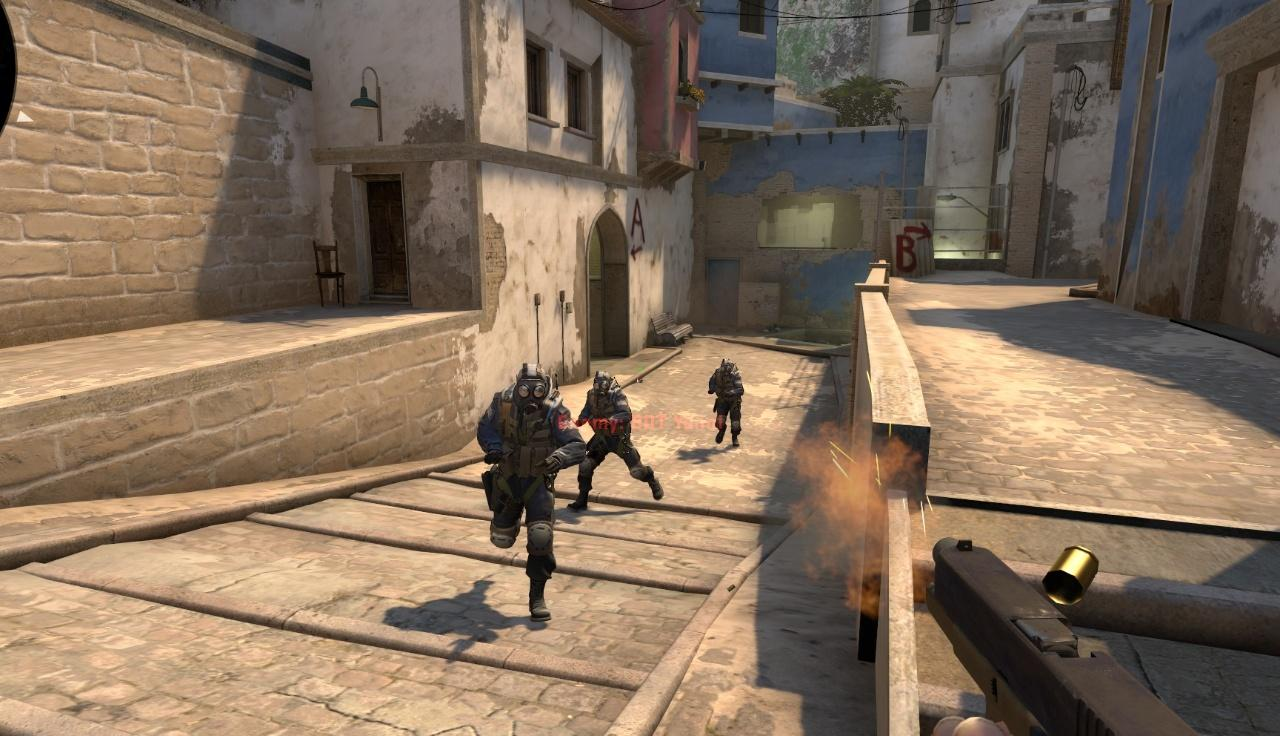ct: (481, 364, 583, 618), (579, 371, 643, 507), (714, 359, 742, 447)
cthead: (515, 364, 548, 414), (594, 371, 613, 399), (720, 359, 734, 378)
pistol: (922, 531, 1199, 736)
